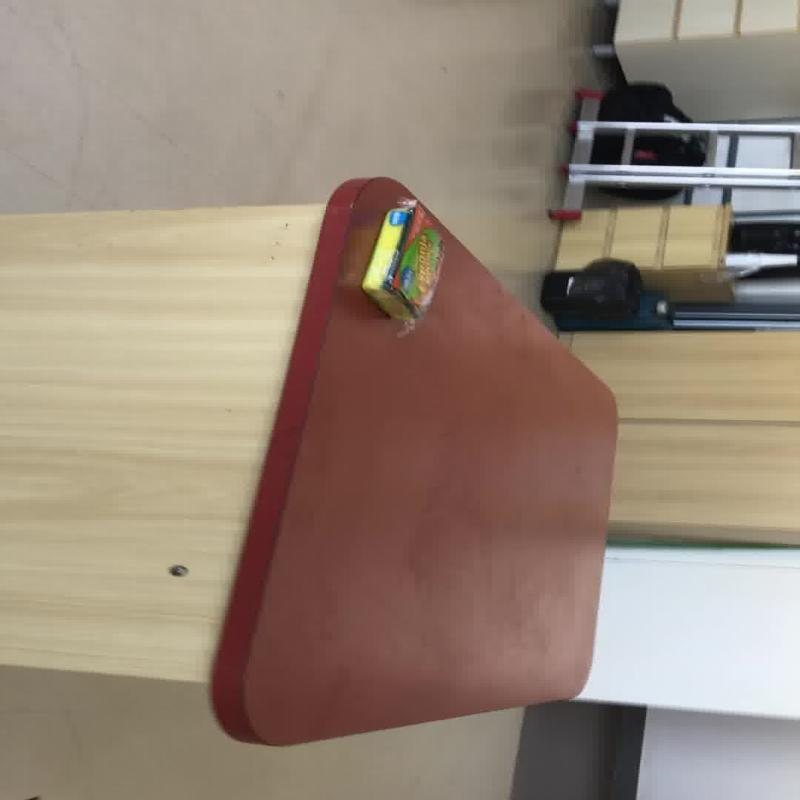sponge: (207, 175, 620, 746), (359, 198, 444, 324)
